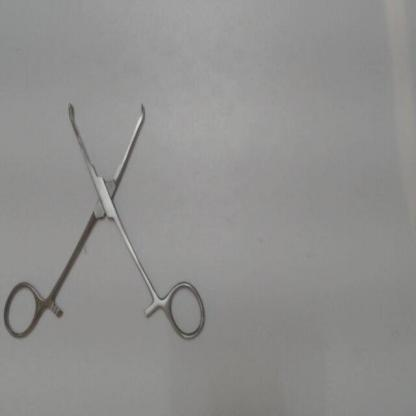Allis Tissue Forceps: (1, 94, 210, 346)
